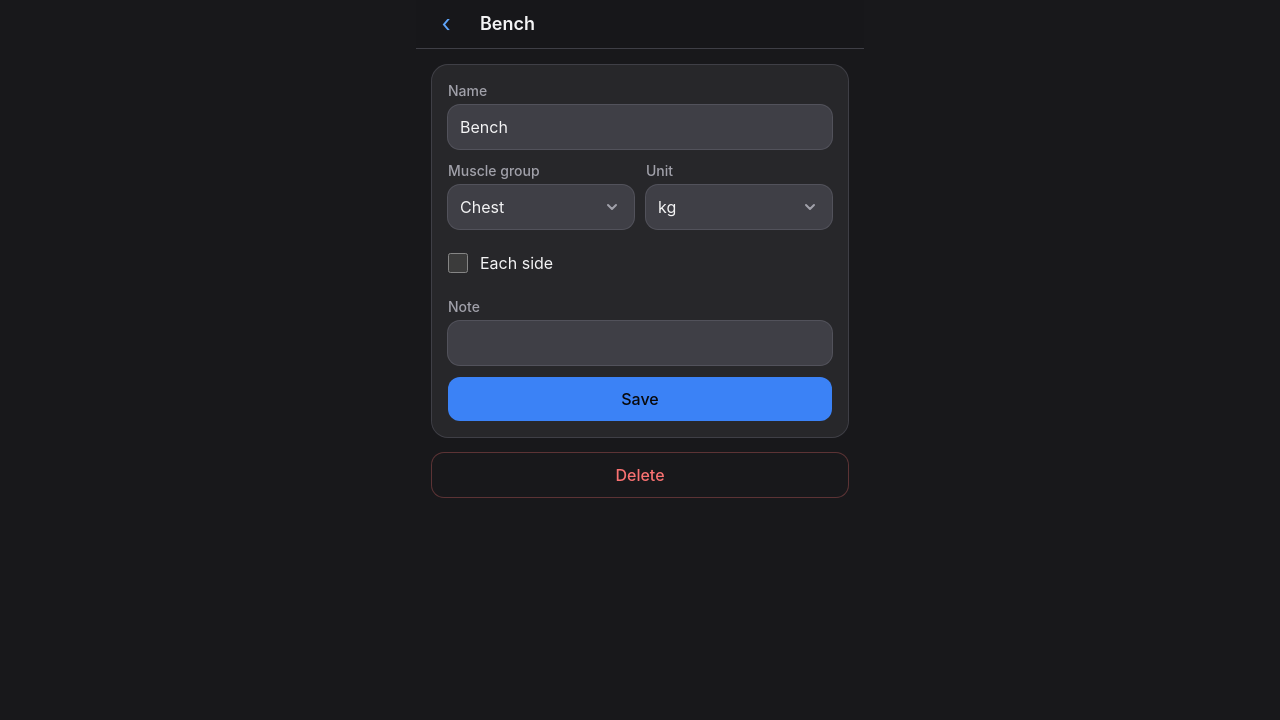
Scenario: an exercise a routine uses is not deleted, and says where it is used
Click the button "Delete".
click(640, 475)  # box x1=432 y1=453 x2=848 y2=497
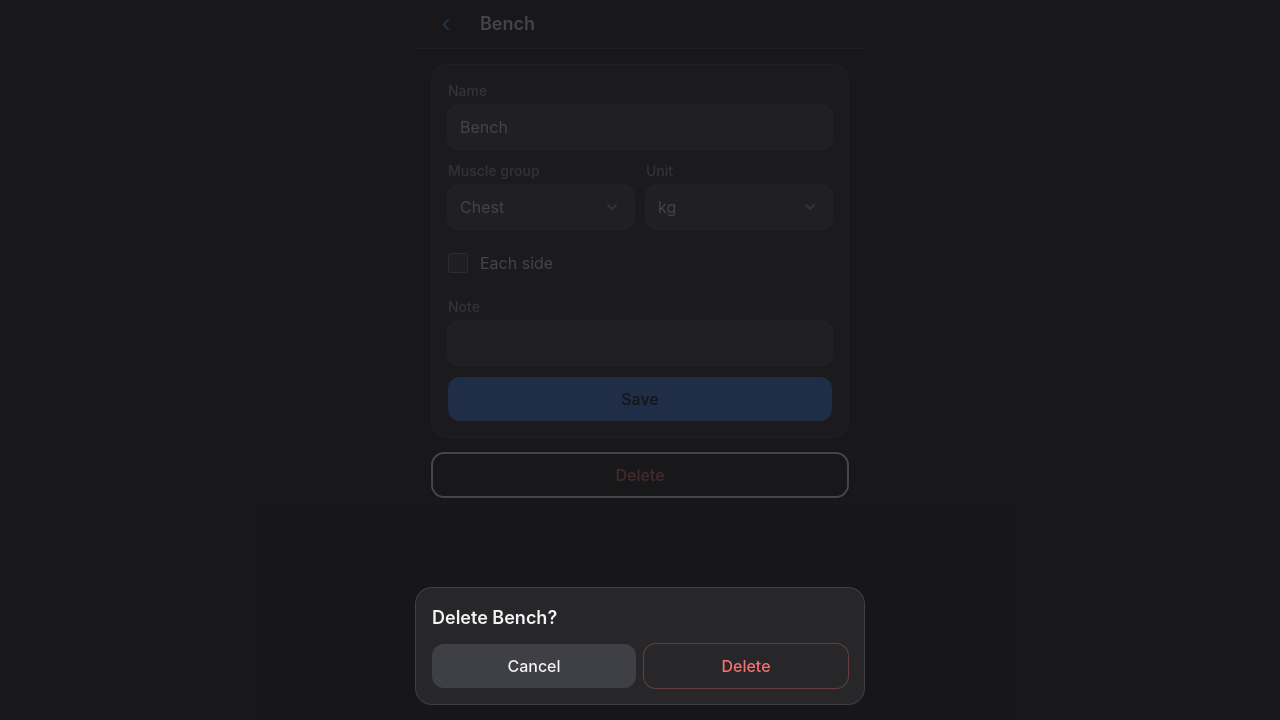
Click the button "Delete" below "Delete Bench?".
click(746, 666)  # box x1=644 y1=644 x2=848 y2=688
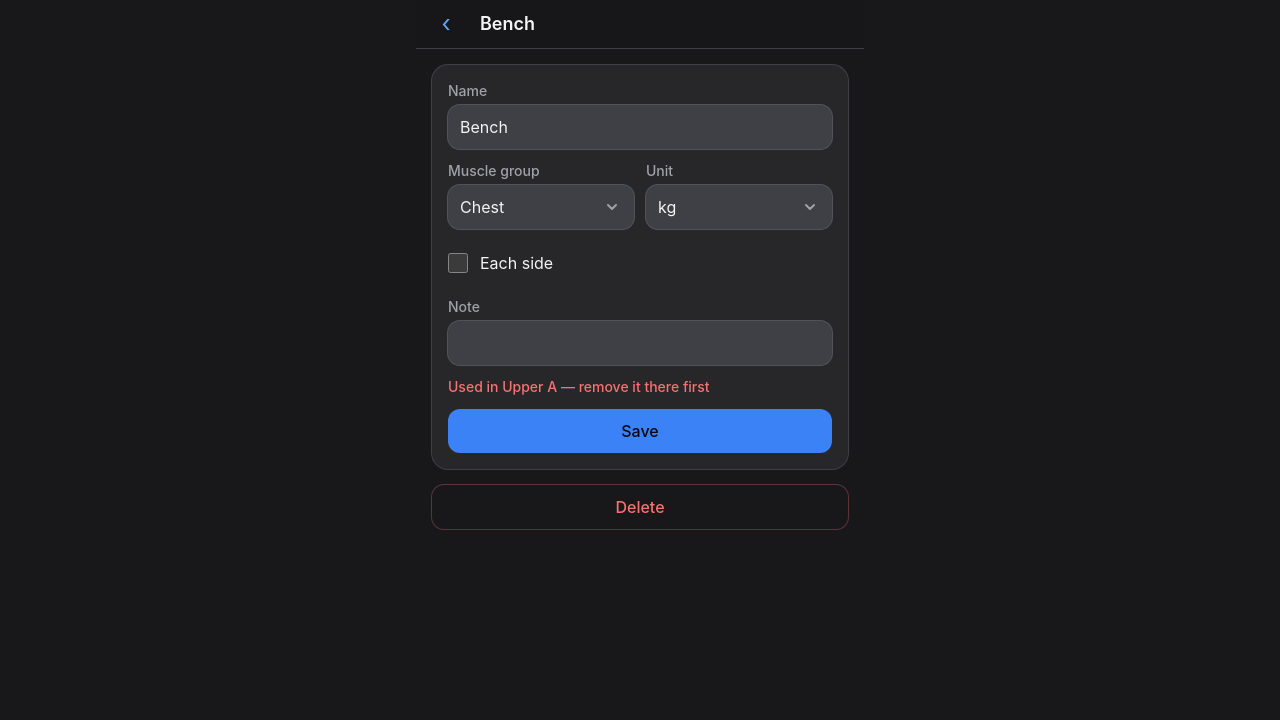
Expected: the text "Used in Upper A — remove it there first" is shown, x1=448 y1=378 x2=710 y2=395
